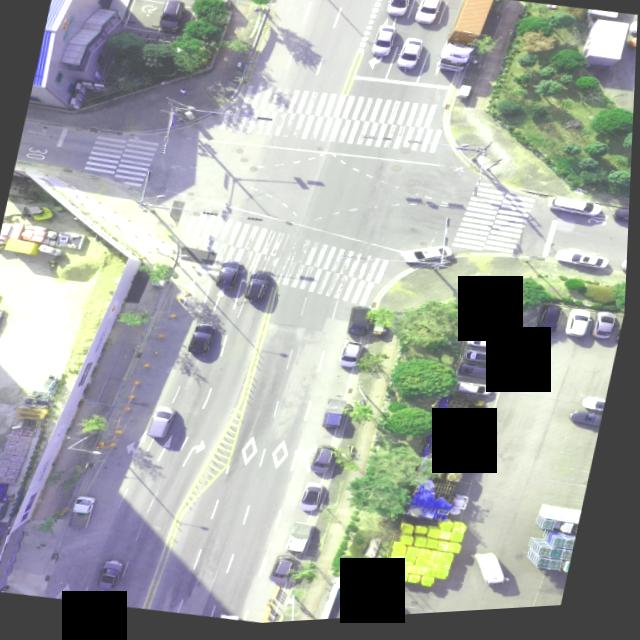car: (100, 557, 130, 593)
large_truck: (435, 0, 495, 82)
small_truck: (476, 554, 520, 595), (288, 522, 319, 560), (322, 399, 354, 435), (71, 494, 100, 533)
